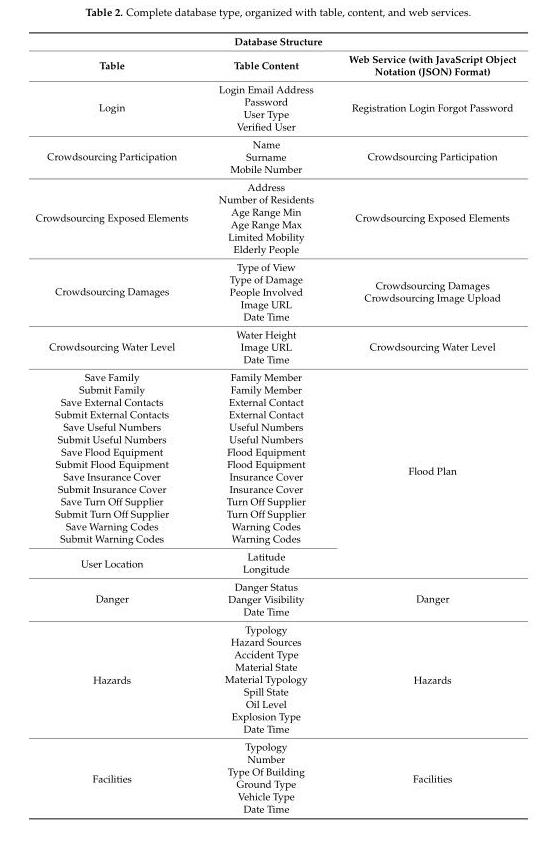table: (34, 34, 515, 814)
table column: (330, 34, 515, 814), (34, 34, 202, 814), (202, 34, 330, 814)
table column header: (34, 34, 515, 80)
table row: (34, 49, 515, 80), (34, 134, 515, 150), (34, 604, 515, 620), (34, 34, 515, 49), (34, 80, 515, 95), (34, 119, 515, 134), (34, 162, 515, 177), (34, 177, 515, 192), (34, 242, 515, 257), (34, 257, 515, 272), (34, 310, 515, 325), (34, 325, 515, 340), (34, 352, 515, 367), (34, 367, 515, 382), (34, 532, 515, 547), (34, 547, 515, 562), (34, 562, 515, 577), (34, 577, 515, 592), (34, 620, 515, 635), (34, 722, 515, 737), (34, 737, 515, 752), (34, 192, 515, 205), (34, 217, 515, 230), (34, 272, 515, 285), (34, 297, 515, 310), (34, 382, 515, 395), (34, 407, 515, 420), (34, 432, 515, 445), (34, 469, 515, 482), (34, 494, 515, 507), (34, 519, 515, 532), (34, 647, 515, 660), (34, 684, 515, 697), (34, 709, 515, 722), (34, 764, 515, 777), (34, 789, 515, 802), (34, 95, 515, 107), (34, 107, 515, 119), (34, 150, 515, 162), (34, 205, 515, 217), (34, 230, 515, 242), (34, 285, 515, 297), (34, 340, 515, 352), (34, 395, 515, 407), (34, 420, 515, 432), (34, 445, 515, 457), (34, 457, 515, 469), (34, 482, 515, 494), (34, 507, 515, 519), (34, 592, 515, 604), (34, 635, 515, 647), (34, 660, 515, 672), (34, 672, 515, 684), (34, 697, 515, 709), (34, 752, 515, 764), (34, 777, 515, 789), (34, 802, 515, 814)
table spanning cell: (330, 367, 515, 577), (330, 620, 515, 737), (34, 620, 202, 737), (330, 177, 515, 257), (330, 737, 515, 814), (34, 177, 202, 257), (34, 737, 202, 814), (330, 257, 515, 325), (34, 257, 202, 325), (330, 80, 515, 134), (34, 80, 202, 134), (330, 134, 515, 177), (330, 577, 515, 620), (330, 325, 515, 367), (34, 134, 202, 177), (34, 577, 202, 620), (34, 34, 515, 49), (34, 325, 202, 367), (34, 547, 202, 577)
